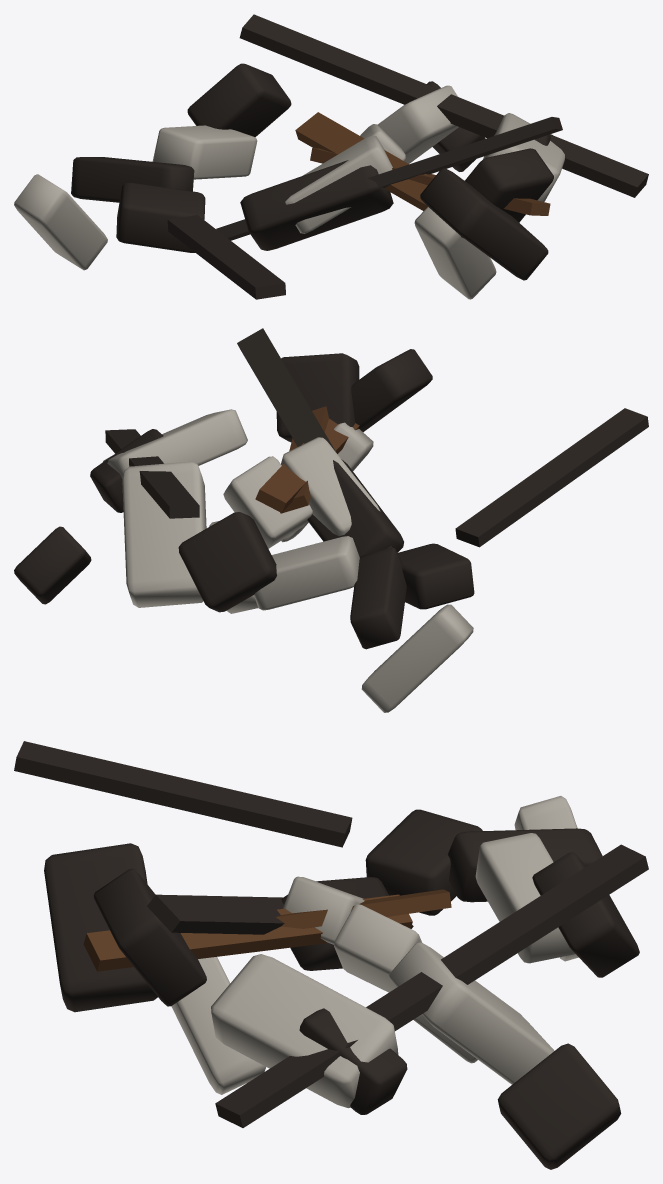
The model's file is prop_puing_b.glb.
3 renders of one model, top to bottom at view 1: azimuth 30°, elevation 25°; view 2: azimuth 150°, elevation 25°; view 3: azimuth 270°, elevation 25°, orthographic. The views are drawn at different scales.
Parts seen in each view (by area): view 1: puing_b; view 2: puing_b; view 3: puing_b.
Boxes of the visible parts, box(x1,y1,x2,y2) form: puing_b: box(14, 14, 648, 299); puing_b: box(14, 328, 648, 712); puing_b: box(14, 741, 648, 1169).
Bounding box in the file's own units: 2.76 × 1.05 × 2.43.
